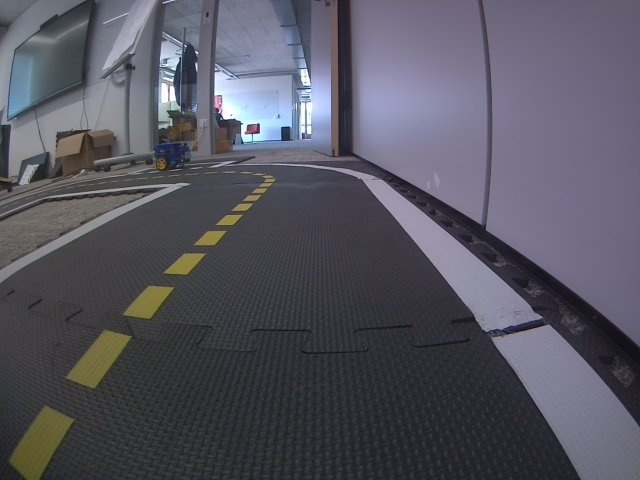Bot: (153, 144, 192, 171)
occupiedSlot: (126, 160, 236, 177)
